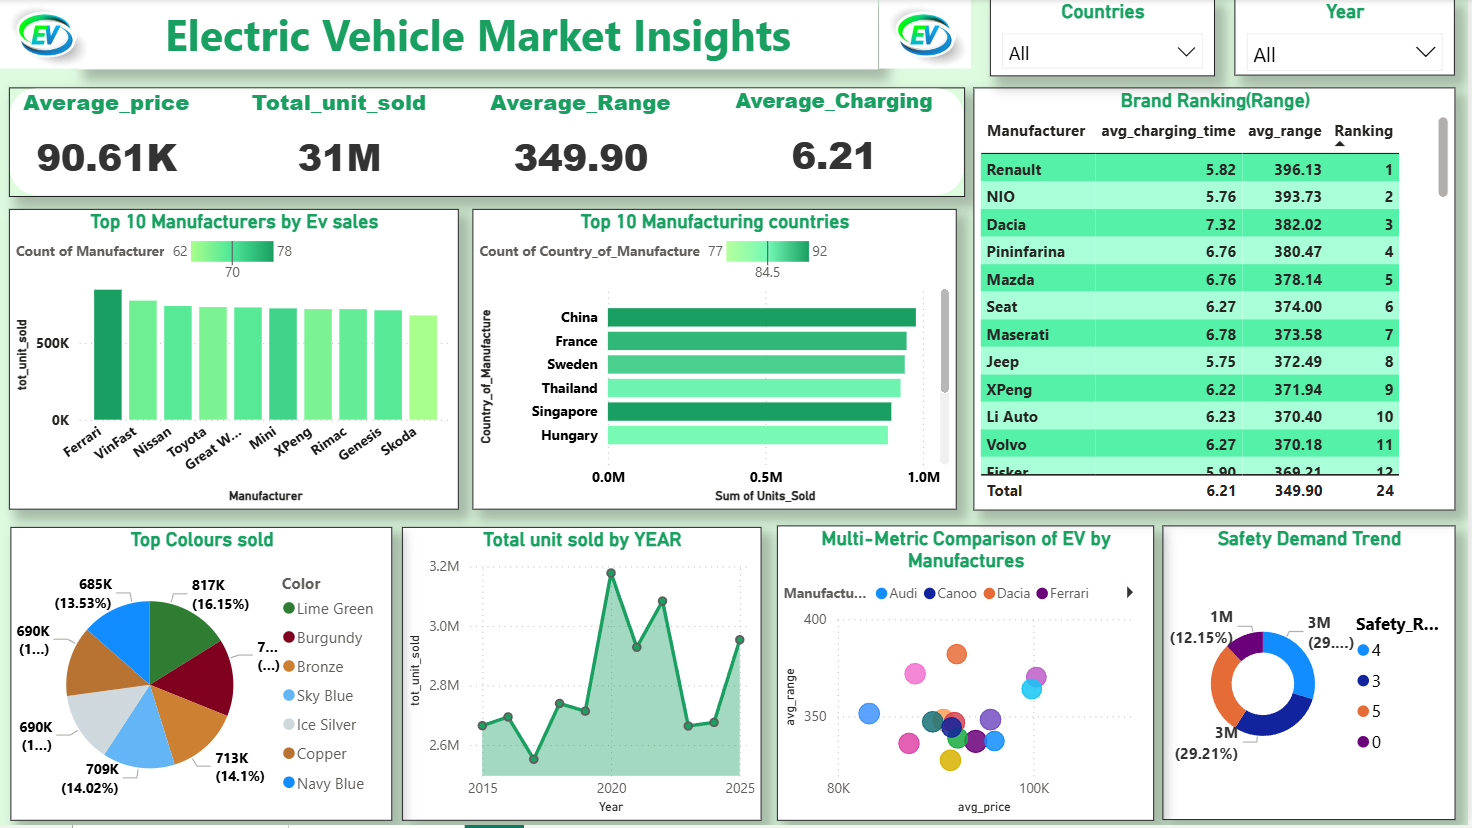

The dashboard page shown, as its layout file describes it:
{"tool":"powerbi","page":{"name":"EV Market Analysis","canvas":[1280,720],"ordinal":0},"visuals":[{"type":"shape","box":[8.3,76.7,833.3,95],"z":0},{"type":"card","title":"Total_unit_sold","fields":{"Values":["electric_vehicles_dataset.tot_unit_sold"]},"box":[198.7,75.9,193.6,96.6],"z":1000,"group":"g1"},{"type":"columnChart","title":"Top 10 Manufacturers by Ev sales","fields":{"Category":["electric_vehicles_dataset.Manufacturer"],"Y":["electric_vehicles_dataset.tot_unit_sold"]},"box":[8.3,183.3,391.7,261.7],"z":1000},{"type":"card","title":"Average_price","fields":{"Values":["electric_vehicles_dataset.avg_price"]},"box":[0,76.1,185.4,96.2],"z":2000,"group":"g1"},{"type":"barChart","title":"Top 10 Manufacturing countries","fields":{"Category":["electric_vehicles_dataset.Country_of_Manufacture"],"Y":["Sum(electric_vehicles_dataset.Units_Sold)"]},"box":[411.7,183.3,421.7,261.7],"z":2000},{"type":"lineChart","title":"Total unit sold by YEAR","fields":{"Category":["electric_vehicles_dataset.Year"],"Y":["electric_vehicles_dataset.tot_unit_sold"]},"box":[349.8,460.3,313.4,255.9],"z":3000},{"type":"donutChart","title":"Safety Demand Trend","fields":{"Category":["electric_vehicles_dataset.Safety_Rating"],"Y":["electric_vehicles_dataset.tot_unit_sold"]},"box":[1013.3,458.3,255,256.7],"z":4000},{"type":"scatterChart","title":"Multi-Metric Comparison of EV by Manufactures","fields":{"X":["electric_vehicles_dataset.avg_price"],"Y":["electric_vehicles_dataset.avg_range"],"Size":["electric_vehicles_dataset.tot_unit_sold"],"Series":["electric_vehicles_dataset.Manufacturer"]},"box":[677.1,458.6,328.6,257.1],"z":5000},{"type":"slicer","title":"Year","fields":{"Values":["electric_vehicles_dataset.Year"]},"box":[1076.7,0,191.7,66.7],"z":6000},{"type":"textbox","box":[68.6,0,697.1,61.4],"z":7000},{"type":"image","box":[0,0,80,61.4],"z":8000},{"type":"tableEx","title":"Brand Ranking(Range)","fields":{"Values":["electric_vehicles_dataset.Manufacturer","electric_vehicles_dataset.avg_charging_time","electric_vehicles_dataset.avg_range","electric_vehicles_dataset.Ranking"]},"box":[848.3,76.7,420,368.3],"z":9000},{"type":"slicer","title":"Countries","fields":{"Values":["electric_vehicles_dataset.Country_of_Manufacture"]},"box":[862.9,0,195.7,67.1],"z":10000},{"type":"group","id":"g1","title":"Group 1","box":[0,75.9,832.8,96.6],"z":11000},{"type":"card","title":"Average_Range","fields":{"Values":["electric_vehicles_dataset.avg_range"]},"box":[409.2,75.9,193.6,96.6],"z":11000,"group":"g1"},{"type":"pieChart","title":"Top Colours sold","fields":{"Category":["electric_vehicles_dataset.Color"],"Y":["Sum(electric_vehicles_dataset.Units_Sold)"]},"box":[8.6,460,332.9,255.7],"z":12000},{"type":"image","box":[765.7,0,80,61.4],"z":13000},{"type":"card","title":"Average_Charging","fields":{"Values":["electric_vehicles_dataset.avg_charging_time"]},"box":[621.1,76.1,211.7,96.2],"z":14000,"group":"g1"}]}

Visuals, with their boxes in screenshot pixels (x1, y1, x2, y2), scaled from the page's 1280x720 canvas onto the 1472x828 screenshot:
shape: detection(10, 88, 968, 197)
"Total_unit_sold" card: detection(229, 87, 451, 198)
"Top 10 Manufacturers by Ev sales" columnChart: detection(10, 211, 460, 512)
"Average_price" card: detection(0, 88, 213, 198)
"Top 10 Manufacturing countries" barChart: detection(473, 211, 958, 512)
"Total unit sold by YEAR" lineChart: detection(402, 529, 763, 824)
"Safety Demand Trend" donutChart: detection(1165, 527, 1459, 822)
"Multi-Metric Comparison of EV by Manufactures" scatterChart: detection(779, 527, 1157, 823)
"Year" slicer: detection(1238, 0, 1459, 77)
textbox: detection(79, 0, 881, 71)
image: detection(0, 0, 92, 71)
"Brand Ranking(Range)" tableEx: detection(976, 88, 1459, 512)
"Countries" slicer: detection(992, 0, 1217, 77)
"Group 1" group: detection(0, 87, 958, 198)
"Average_Range" card: detection(471, 87, 693, 198)
"Top Colours sold" pieChart: detection(10, 529, 393, 823)
image: detection(881, 0, 973, 71)
"Average_Charging" card: detection(714, 88, 958, 198)
